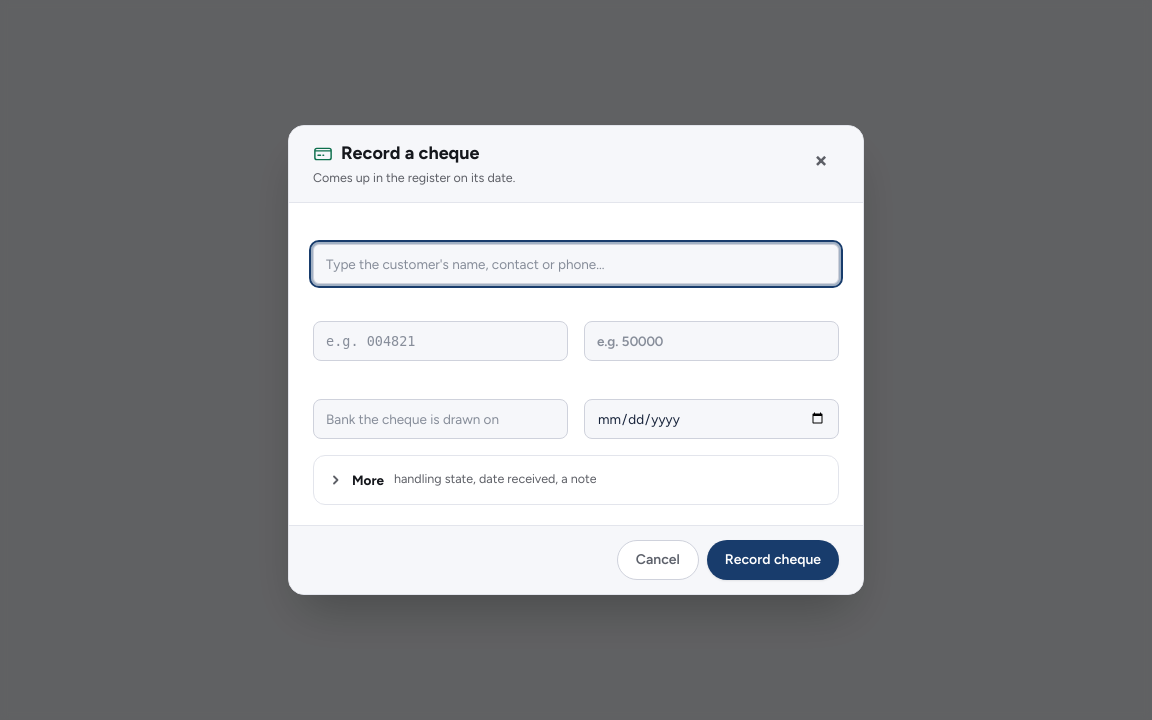
Test: the dialog guesses nothing › opens with no customer, no bank and no date chosen, and will not save without them
Expected: the field labelled "Customer" is empty, [313, 244, 839, 284]
Expected: the field labelled "Bank" is empty, [313, 399, 568, 439]
everything else filled: the browser's own "required" check passes and ours speaks
Type "000777" into the field with placeholder "e.g. 004821" at (440, 342), box [313, 322, 568, 362]
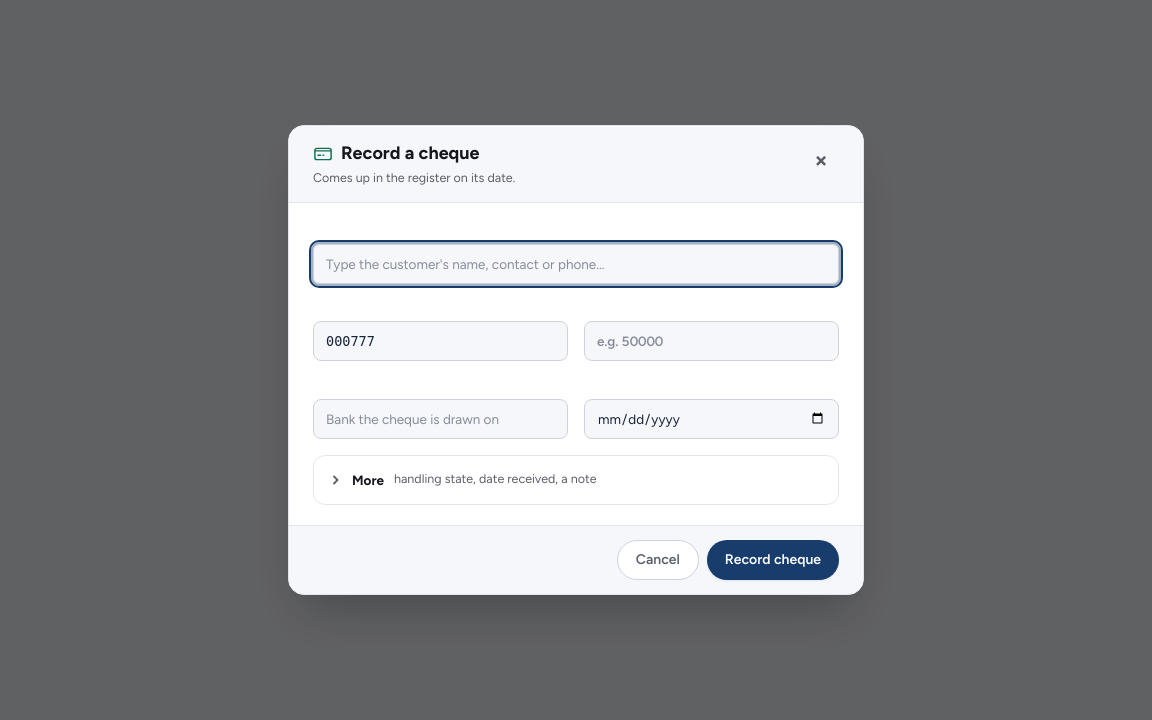
Type "15000" into the number field with placeholder "e.g. 50000" at (712, 342), box [584, 322, 839, 362]
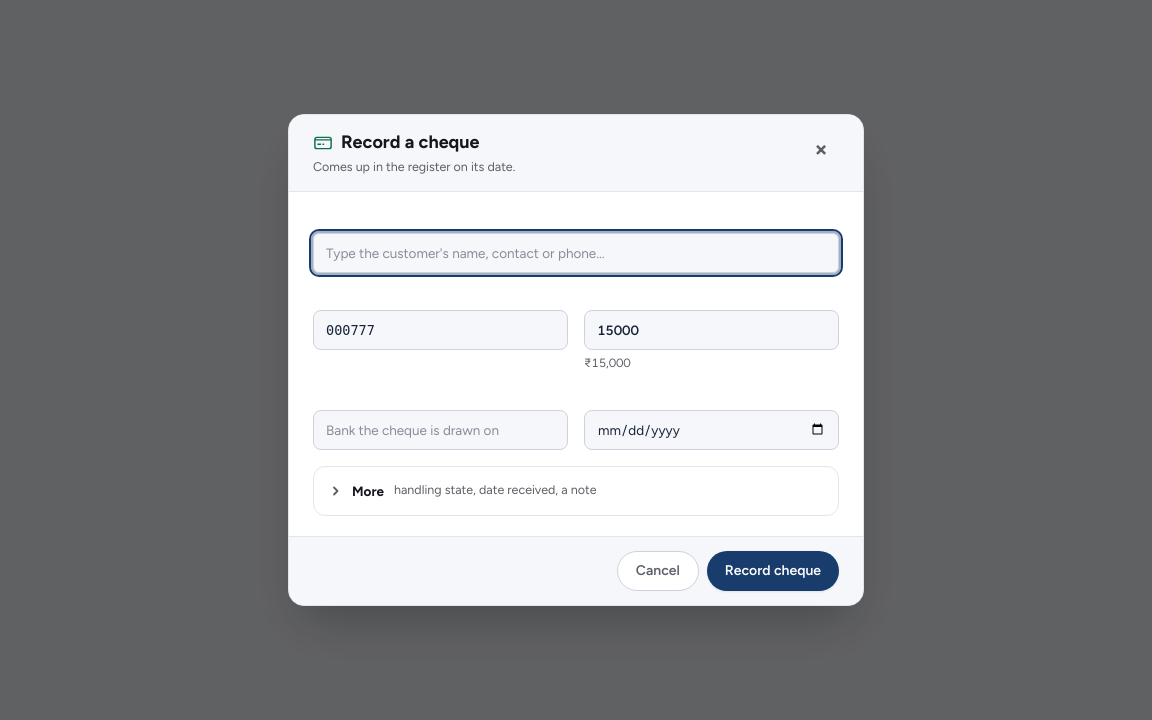
Type "SBI" into the field labelled "Bank" at (440, 430), box [313, 410, 568, 450]
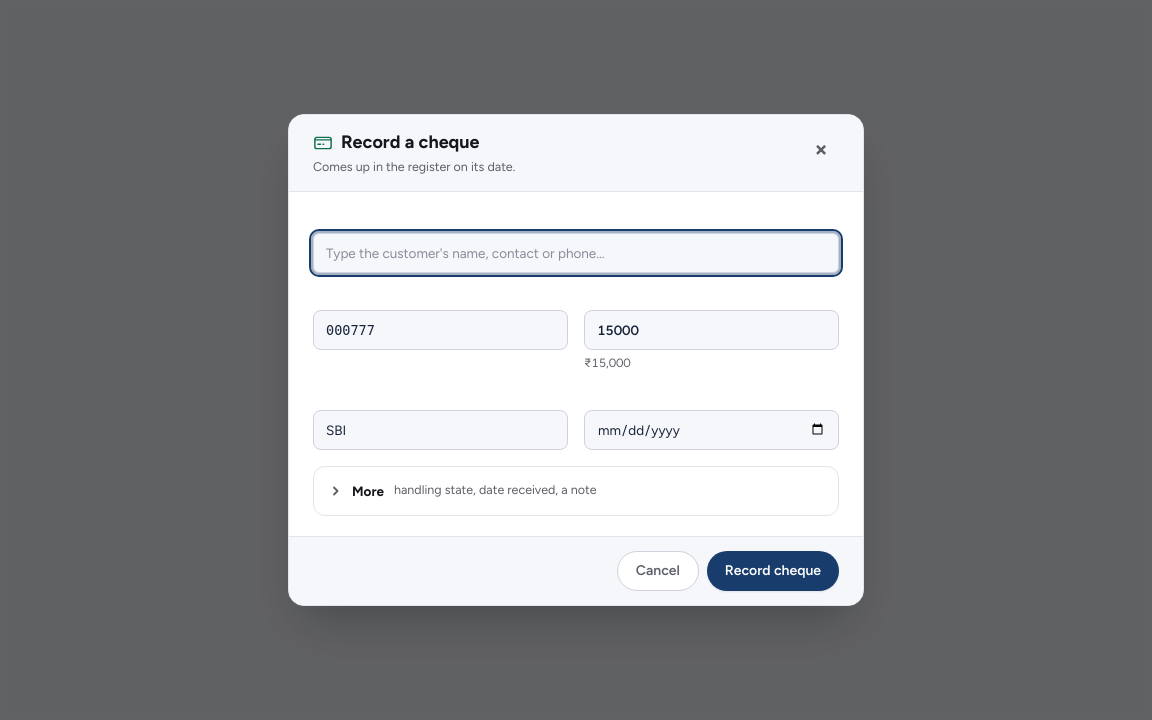
Type "2026-12-01" into the date field labelled "Dated" at (712, 430), box [584, 410, 839, 450]
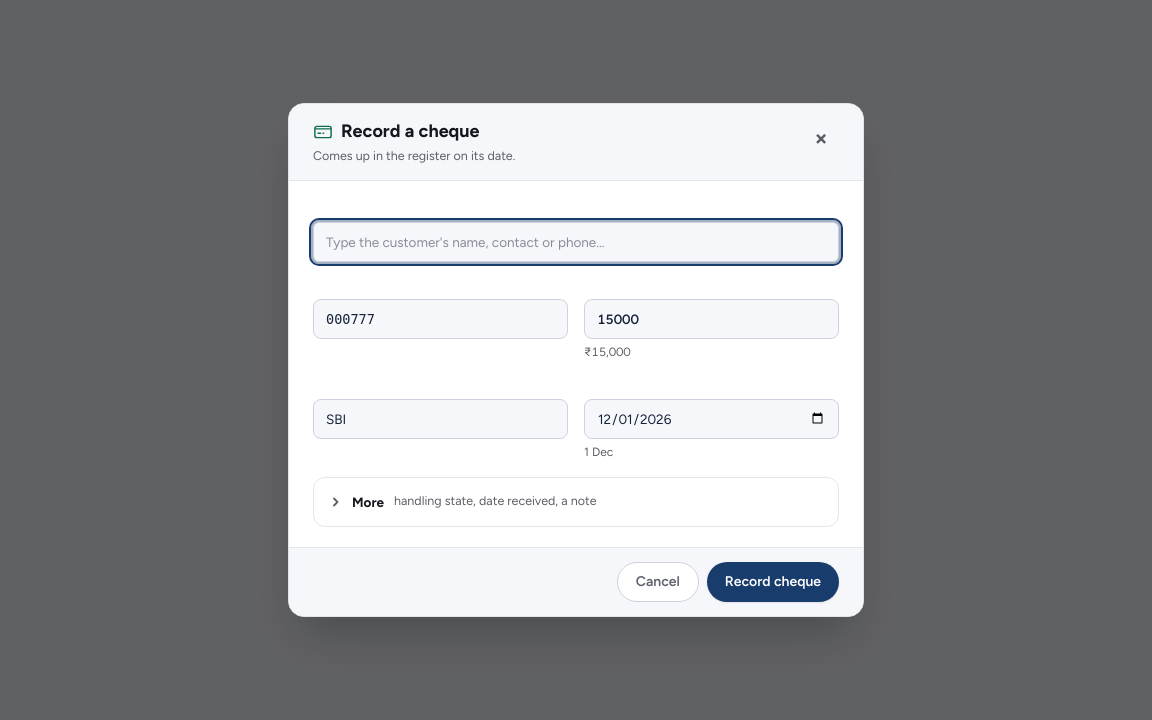
Click the button "Record cheque" at (773, 582), box [707, 562, 839, 602]
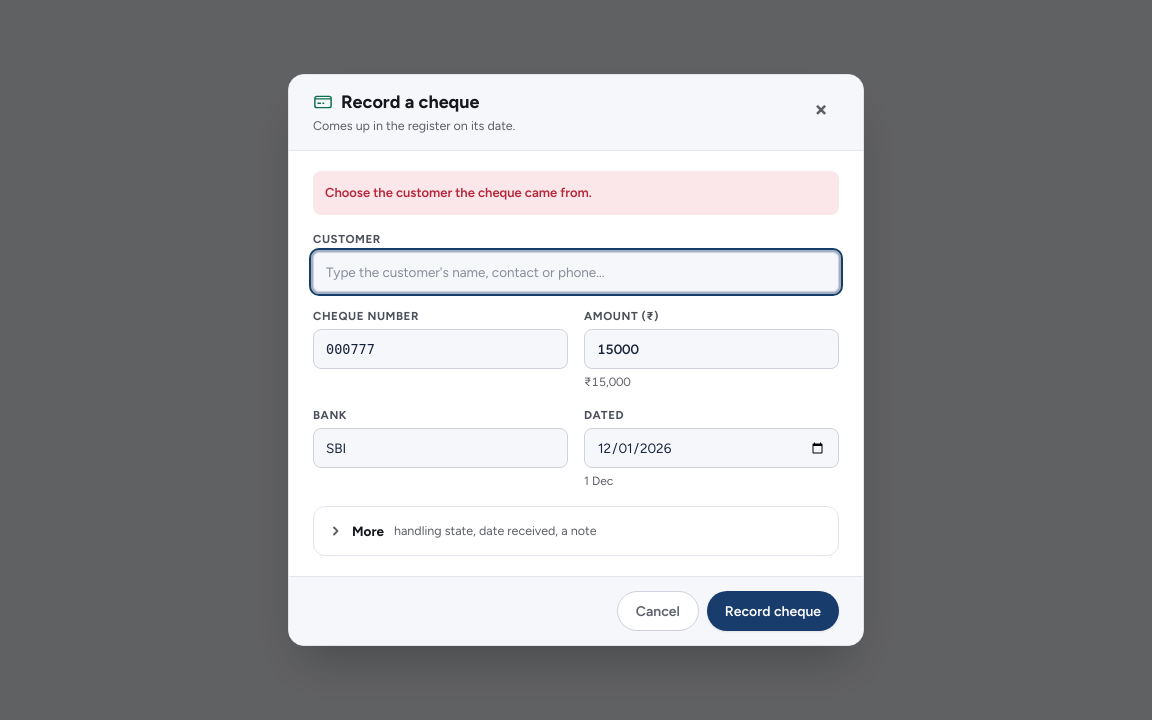
Expected: the message shows "Choose the customer", [325, 185, 592, 200]
